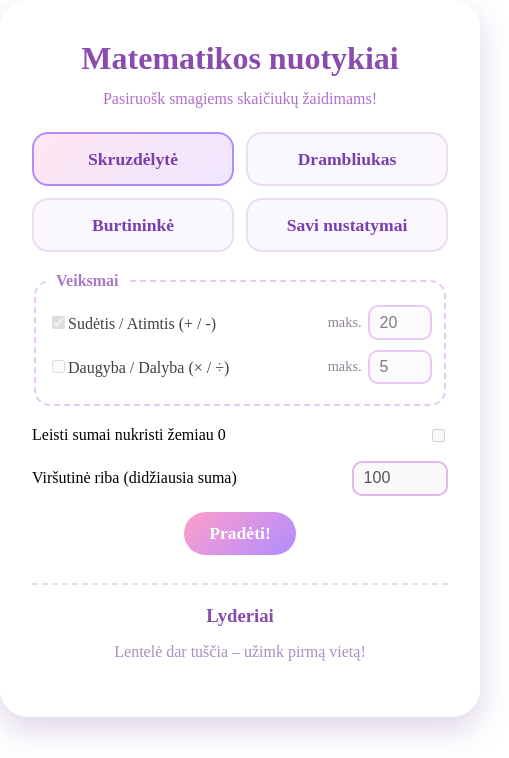
Test: SettingsScreen presets › shows each preset's own values when switching between them
Click the radio button labelled "Drambliukas". click: (347, 159)
box: [246, 132, 448, 186]
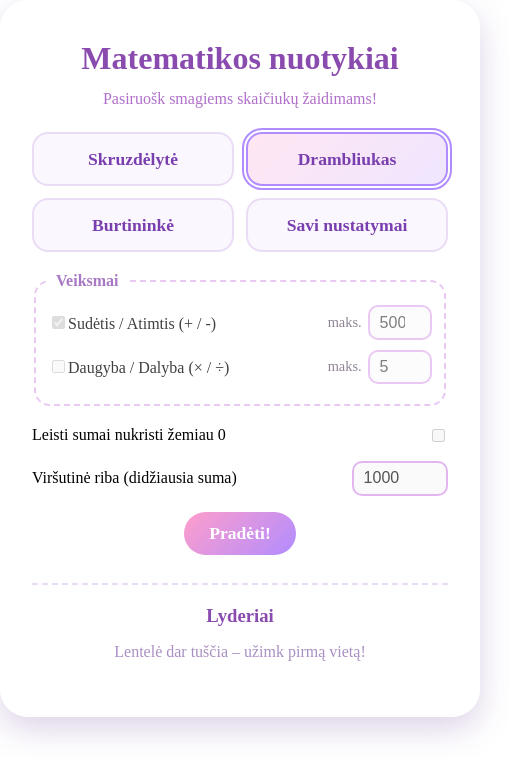
expect the number field labelled "maks." in the row of "Sudėtis / Atimtis (+ / -)" holds "500": met, box [368, 305, 432, 340]
expect the number field labelled "Viršutinė riba (didžiausia suma)" holds "1000": met, box [352, 461, 448, 496]
Click the radio button labelled "Burtininkė". click: (133, 225)
box: [32, 198, 234, 252]
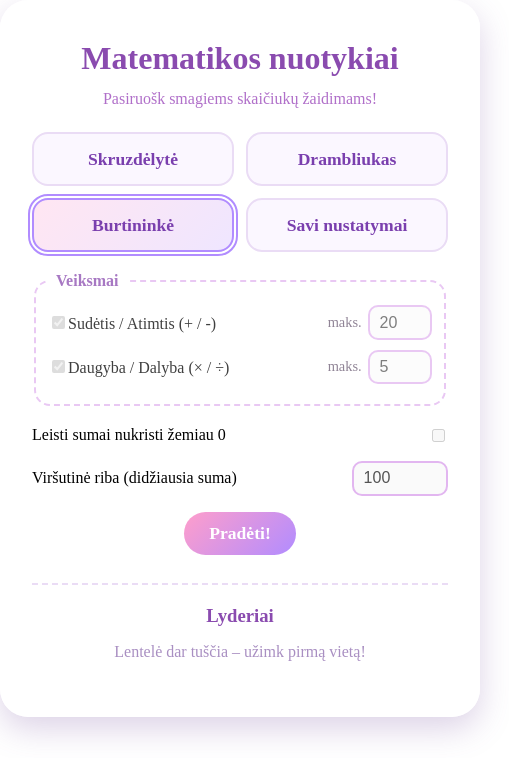
expect the checkbox labelled "Daugyba / Dalyba (× / ÷)" is checked: met, box [52, 360, 65, 373]
expect the number field labelled "maks." in the row of "Sudėtis / Atimtis (+ / -)" holds "20": met, box [368, 305, 432, 340]
expect the number field labelled "Viršutinė riba (didžiausia suma)" holds "100": met, box [352, 461, 448, 496]
